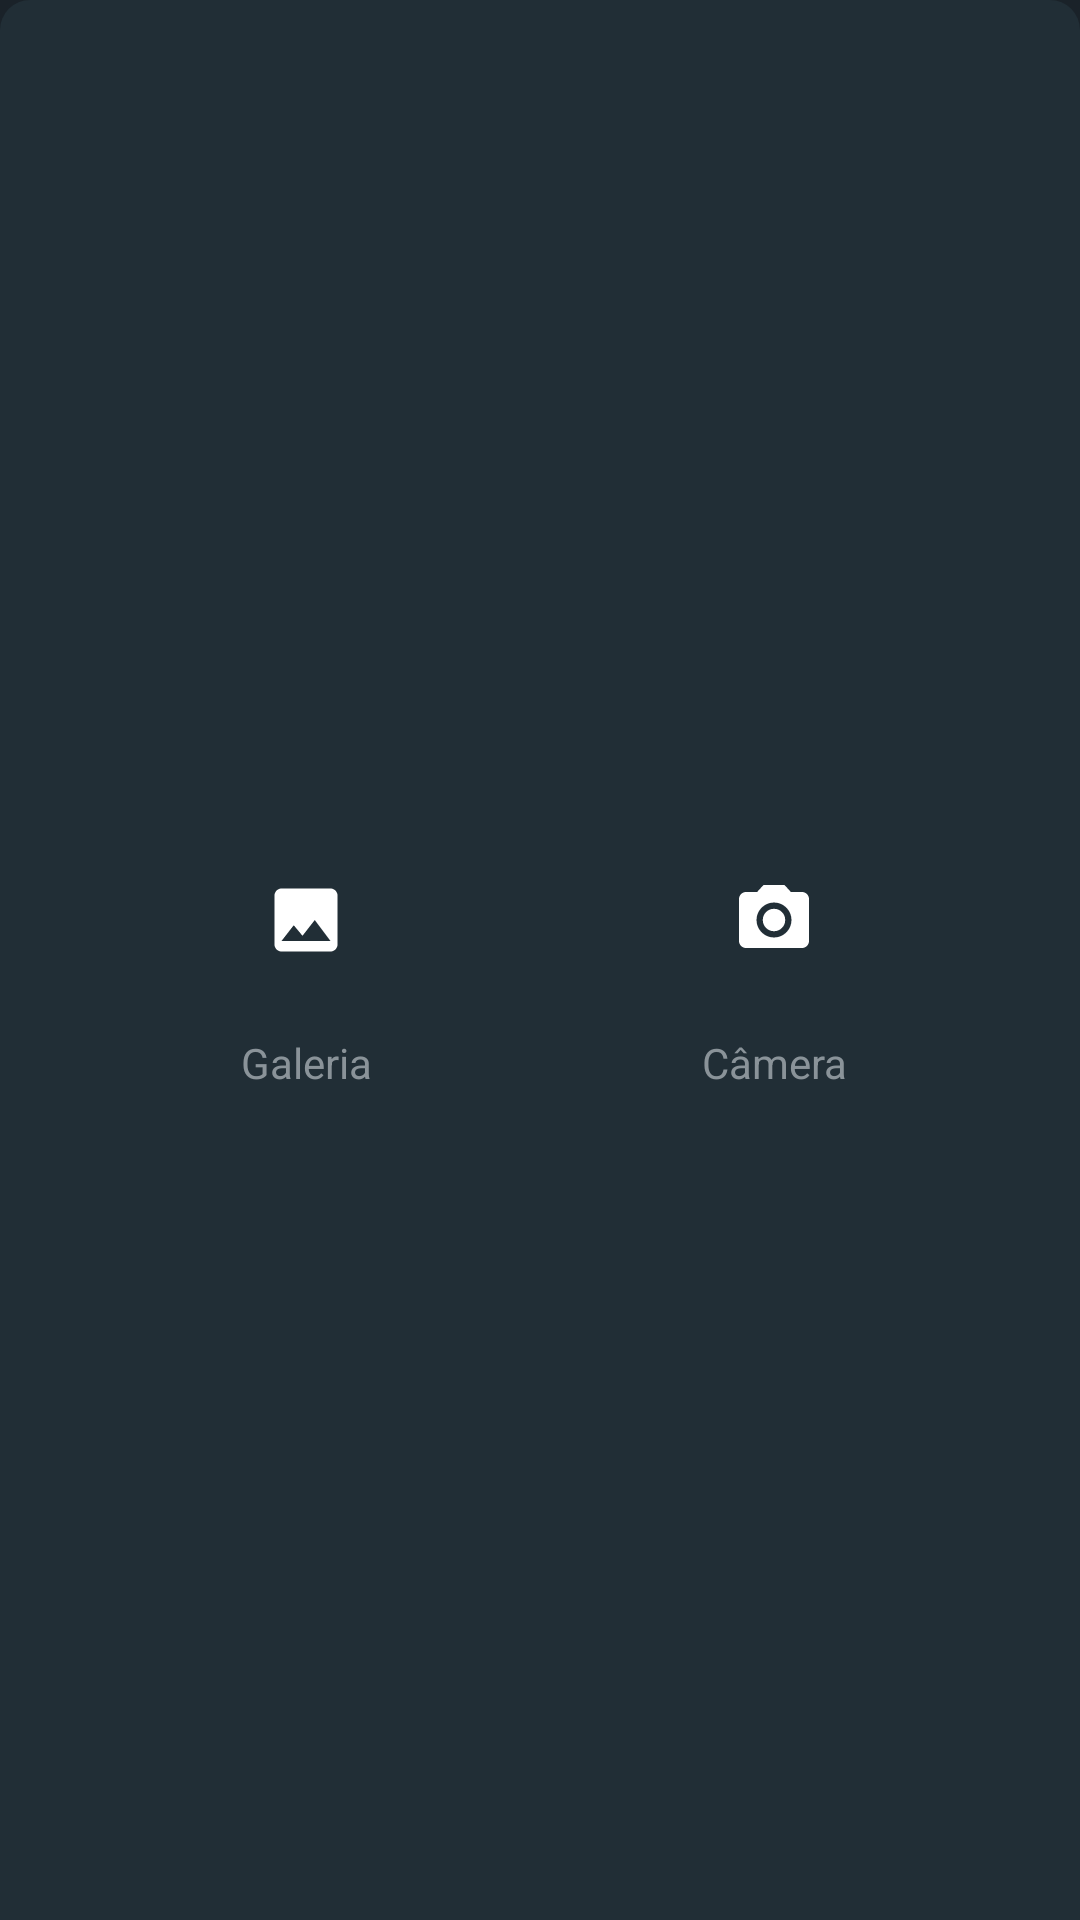

Icon click points for this 1080 x 1920 phone screenshot, format point (x, y):
camera: point (774, 916)
photo gallery: point (306, 920)
